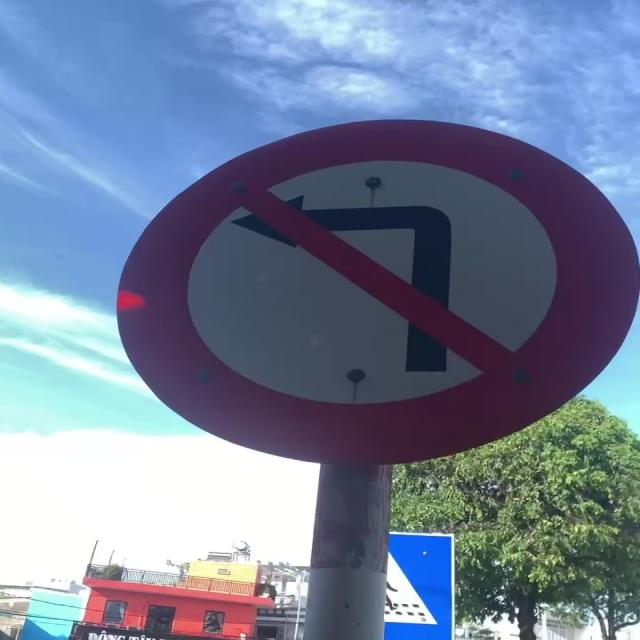Cam_Re_Trai: (118, 115, 638, 475)
